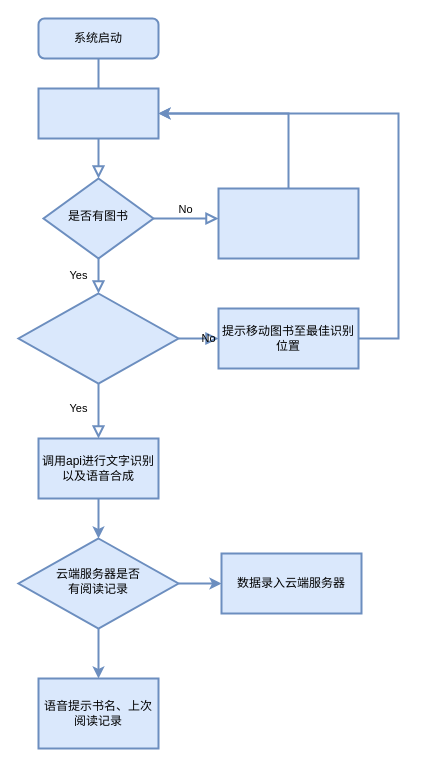
Image size: 424x766. Some labels were removed from this diagram. The box of each missing label's shape, as (x1, y1, x2, y2) in pixels:
图书位置是否 处于最佳位置: (17, 292, 179, 384)
定格图像: (37, 87, 159, 139)
提示当前视野内没有图书: (217, 187, 359, 259)
